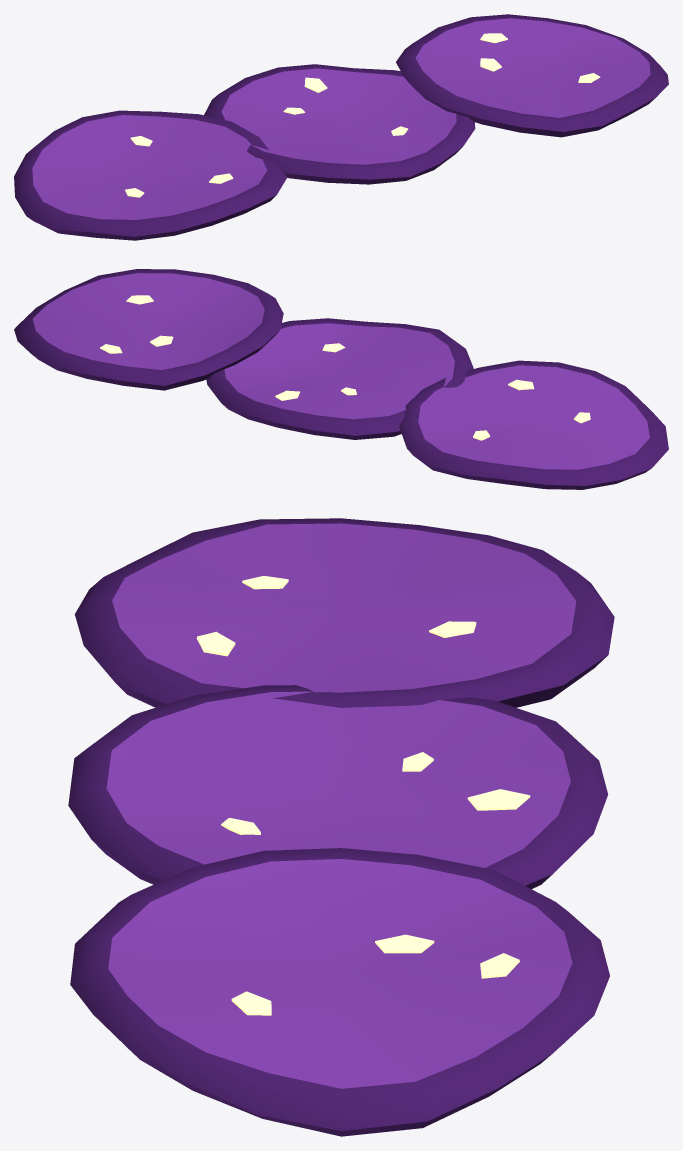
Rendered from Food_MysteryMeat.fbx.
3 views of the same model, one above another, from view 1: azimuth 30°, elevation 25°; view 2: azimuth 150°, elevation 25°; view 3: azimuth 270°, elevation 25° (orthographic). The views are drawn at different scales.
Visible parts, largest first — view 1: Meat, Casing, Flecks; view 2: Meat, Casing, Flecks; view 3: Meat, Casing, Flecks.
Boxes of the visible parts, x1,y1,x2,y2 form: Meat: (32, 18, 650, 219); Casing: (14, 14, 668, 240); Flecks: (125, 33, 600, 197); Meat: (33, 273, 649, 469); Casing: (14, 269, 668, 489); Flecks: (100, 295, 590, 440); Meat: (106, 523, 576, 1088); Casing: (68, 518, 614, 1136); Flecks: (196, 576, 530, 1015).
Size of the model in its own units: 229 by 13.93 by 87.02.
